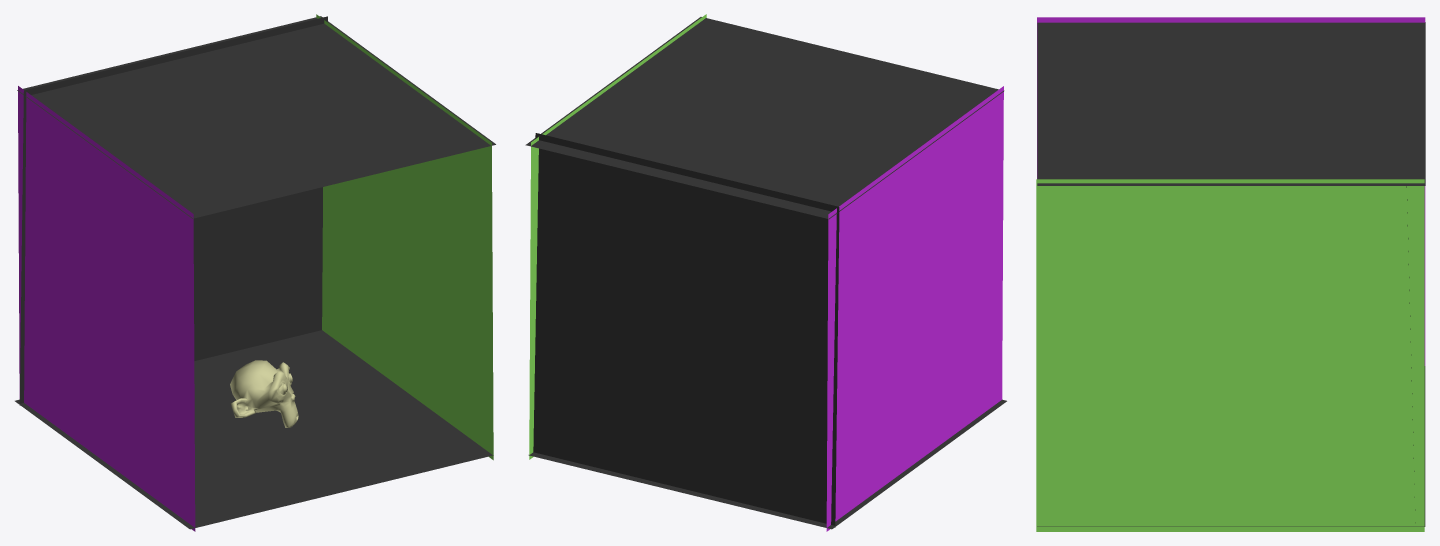
File: cornellbox_suzanne.obj
The picture shows the model from 3 angles, left to right: view 1: azimuth 30°, elevation 25°; view 2: azimuth 150°, elevation 25°; view 3: azimuth 270°, elevation 25°; orthographic projection. The views are drawn at different scales.
Bounding box in the file's own units: 0.9804 × 0.9804 × 0.9742.
